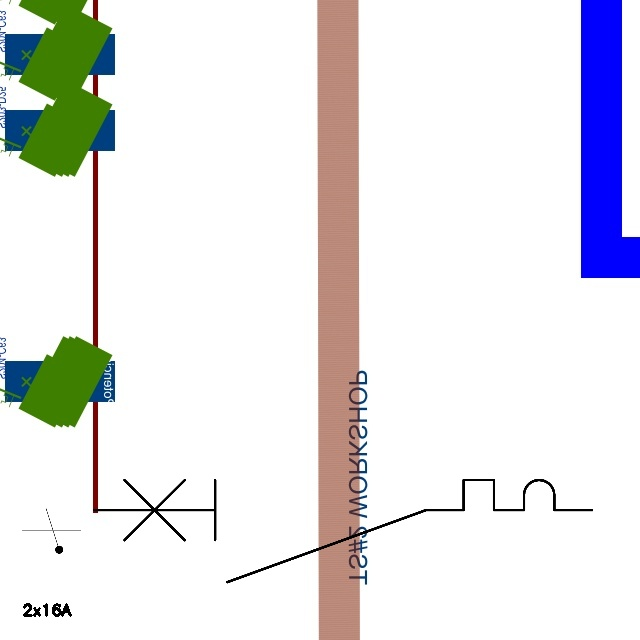interruptor_termomagnetico: (81, 467, 605, 595)
